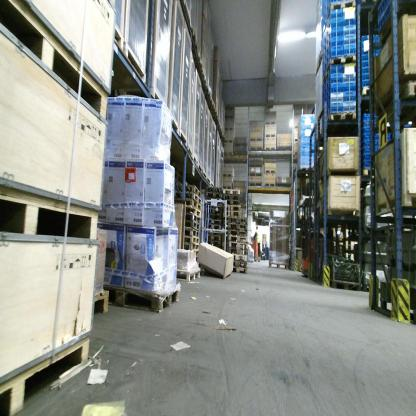forklift: (301, 192, 322, 282)
pallet: (90, 278, 182, 321), (375, 81, 415, 129), (378, 2, 414, 45), (319, 111, 359, 142), (320, 1, 354, 34), (320, 56, 354, 86), (379, 298, 416, 325), (88, 290, 109, 323), (174, 184, 202, 200), (176, 268, 201, 282), (173, 196, 202, 208), (328, 282, 362, 292), (173, 192, 202, 203), (268, 260, 289, 270), (191, 28, 198, 55), (228, 216, 246, 226), (185, 206, 201, 217), (185, 226, 199, 238), (228, 236, 249, 243), (197, 50, 204, 71), (184, 236, 200, 245), (228, 229, 246, 237), (186, 212, 199, 223), (228, 224, 248, 231), (228, 241, 248, 248), (362, 1, 379, 8), (184, 243, 200, 250), (223, 189, 239, 196), (224, 204, 240, 211), (230, 254, 246, 261), (206, 187, 222, 194), (206, 200, 222, 207), (185, 221, 200, 228), (227, 248, 248, 253), (200, 71, 207, 86), (223, 200, 240, 206), (206, 194, 223, 200), (233, 267, 247, 274), (223, 194, 239, 200), (224, 211, 240, 217), (203, 86, 210, 99), (232, 261, 247, 267), (207, 224, 221, 230), (206, 235, 220, 241), (212, 109, 219, 121), (208, 214, 221, 220), (207, 205, 222, 210), (207, 219, 222, 224), (206, 230, 221, 235), (208, 210, 222, 215), (209, 97, 214, 111), (216, 118, 221, 131), (212, 241, 220, 247), (220, 133, 225, 141), (195, 251, 200, 258), (220, 130, 223, 139), (195, 259, 199, 264)
pallet_truck: (249, 235, 262, 263)
small_load_carrier: (325, 81, 343, 96), (327, 72, 342, 90), (327, 89, 342, 106), (328, 100, 343, 116), (327, 9, 342, 24), (327, 65, 343, 79), (386, 2, 398, 19), (342, 28, 356, 42), (329, 36, 342, 51), (343, 99, 357, 112), (343, 38, 356, 51), (343, 19, 355, 33), (329, 46, 343, 58), (329, 27, 343, 39), (377, 13, 386, 31), (342, 8, 354, 21), (329, 19, 341, 32), (361, 36, 373, 48), (361, 114, 377, 123), (378, 1, 386, 18), (343, 72, 355, 83), (344, 82, 356, 93), (361, 44, 373, 55), (343, 90, 356, 100), (343, 64, 355, 74), (362, 54, 374, 64), (343, 48, 357, 56), (363, 155, 375, 164), (361, 142, 376, 149), (362, 122, 375, 130), (361, 72, 370, 82), (363, 129, 378, 135), (361, 149, 375, 155), (362, 136, 377, 141), (361, 82, 369, 89), (362, 64, 368, 72), (363, 164, 369, 171)
stillage: (317, 254, 361, 284)
